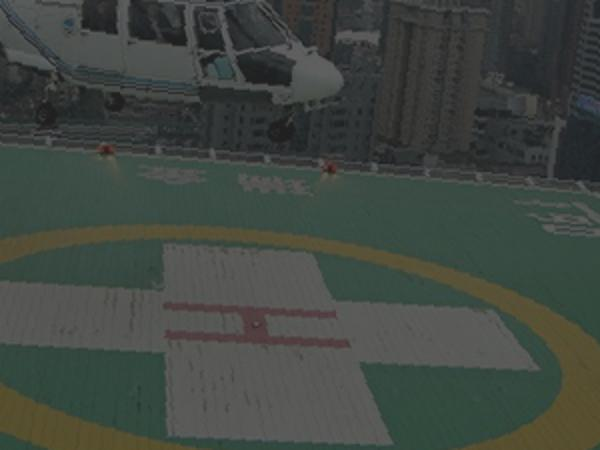Apron: (1, 206, 600, 450)
